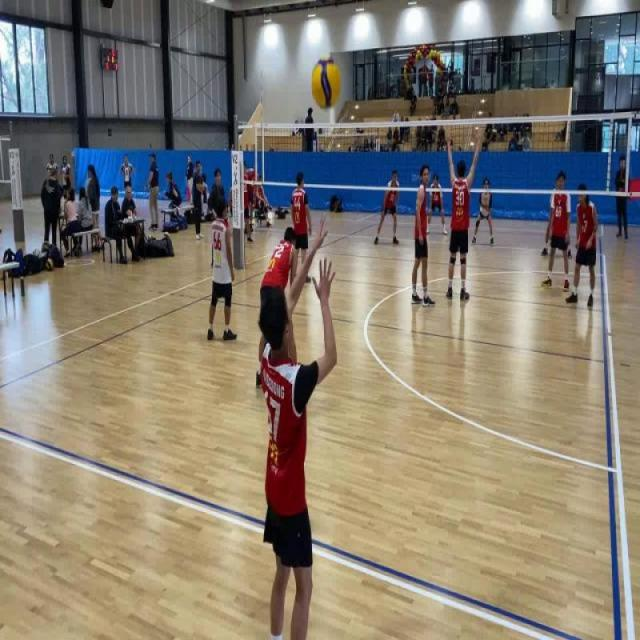volleyball: (310, 53, 343, 112), (46, 257, 54, 271), (163, 230, 170, 238), (148, 234, 153, 240)
